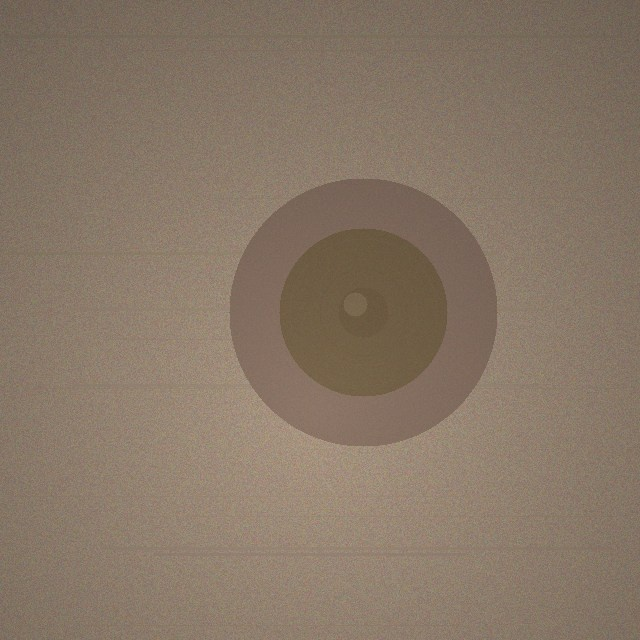good: (229, 178, 497, 446)
